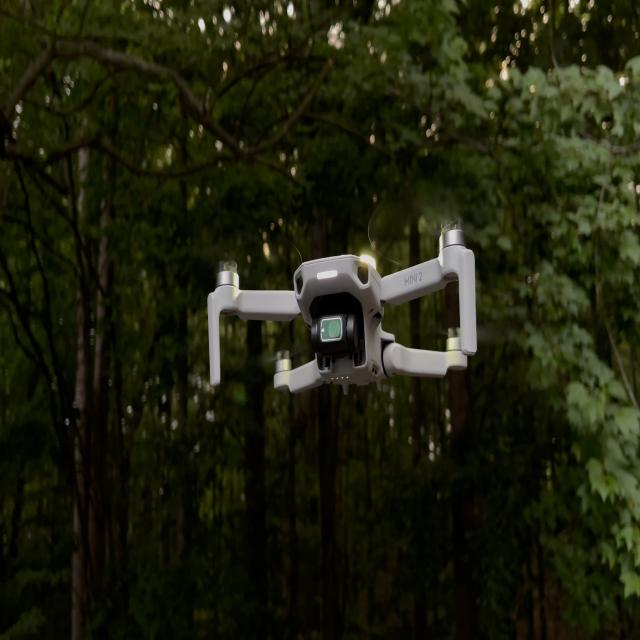Drone: (207, 235, 484, 415)
